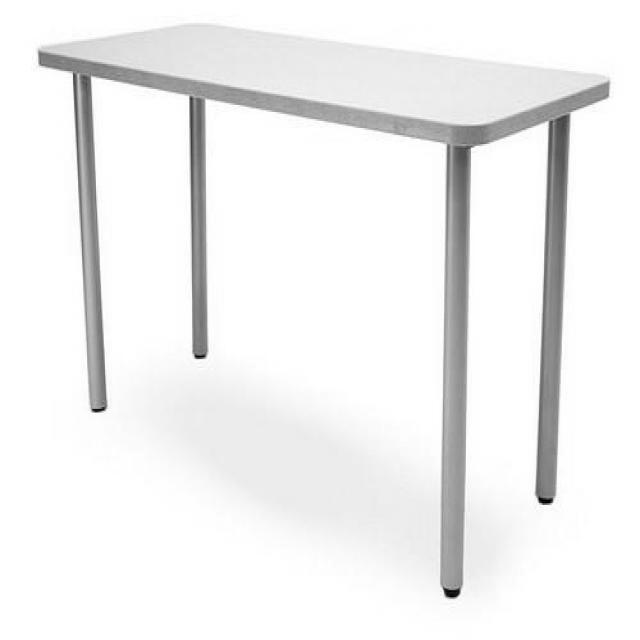table: (41, 24, 612, 598)
